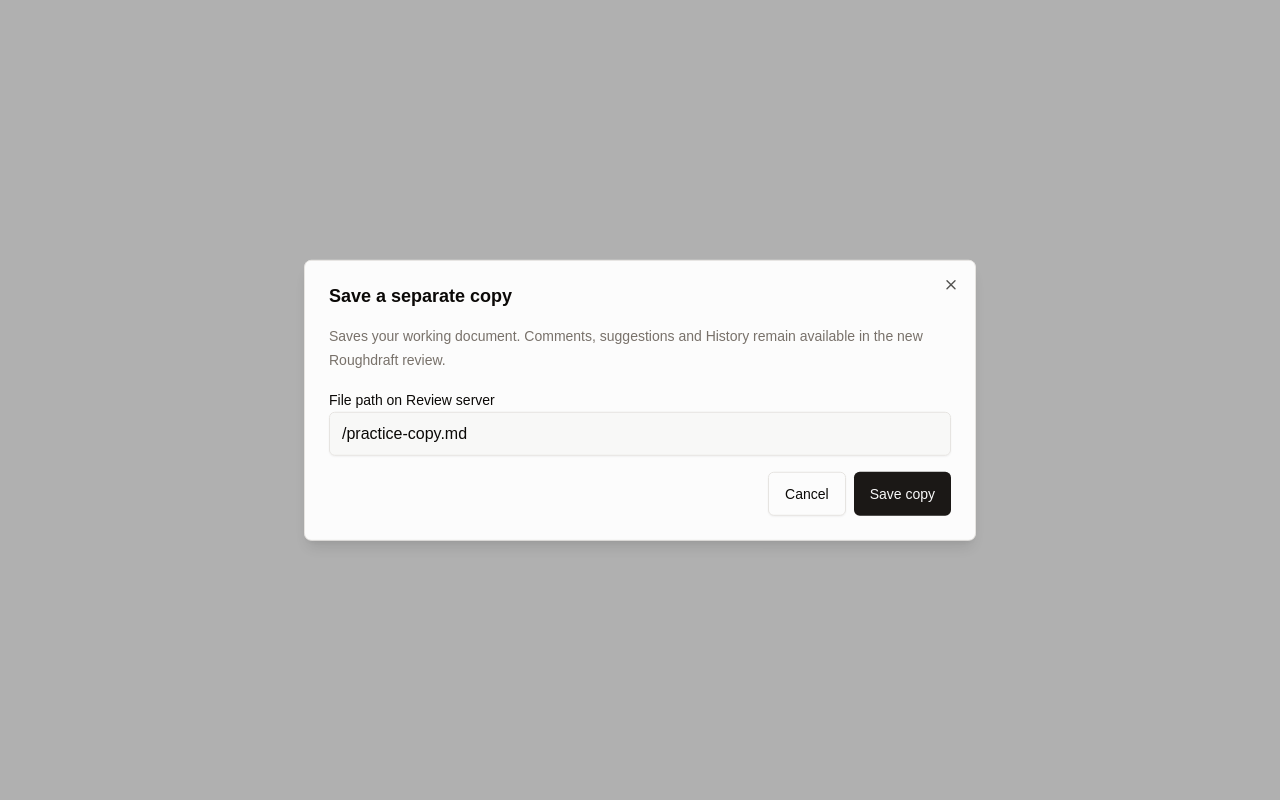
Test: StrictMode saves show the returned server path
The image size is (1280, 800).
Click the button with test id "revision-save-copy-confirm" at (902, 493), box [854,471,951,515]
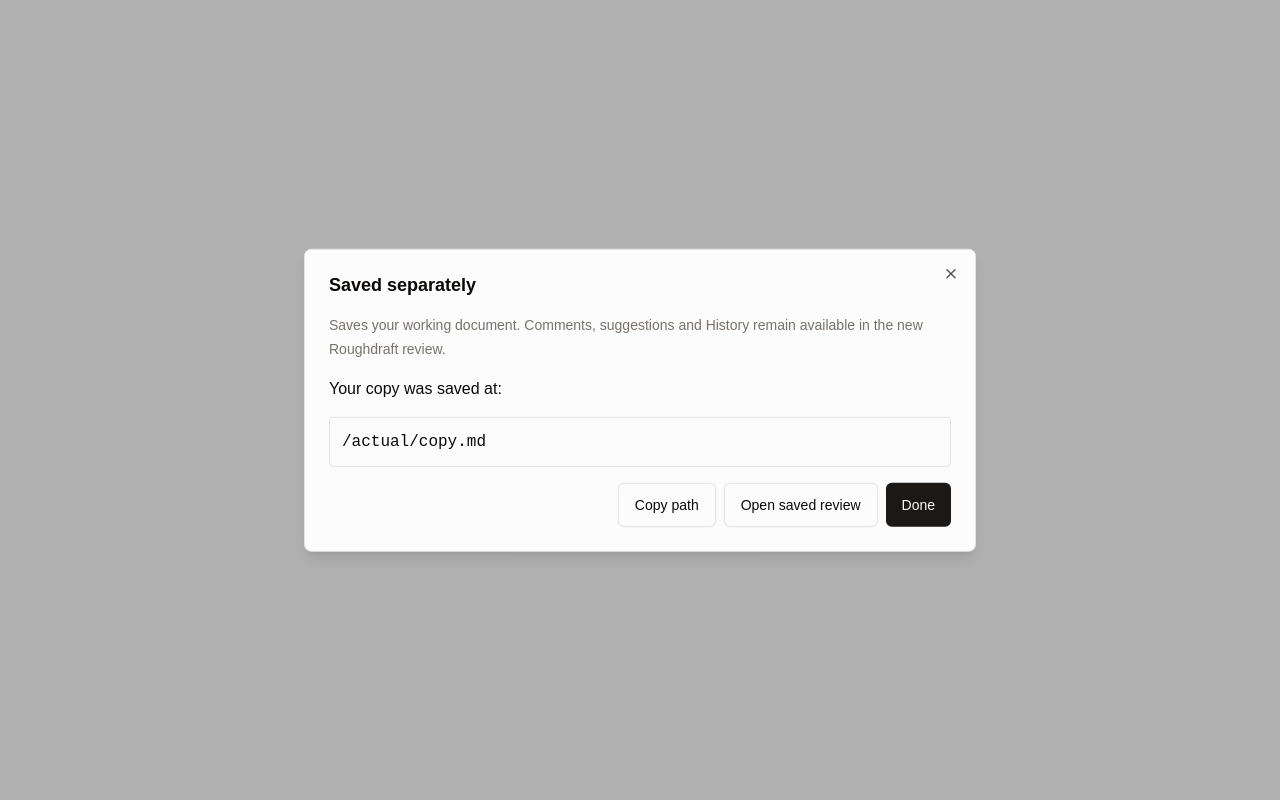
Result: the text with test id "revision-copy-saved-path" reads "/actual/copy.md" at [342,432,486,450]
